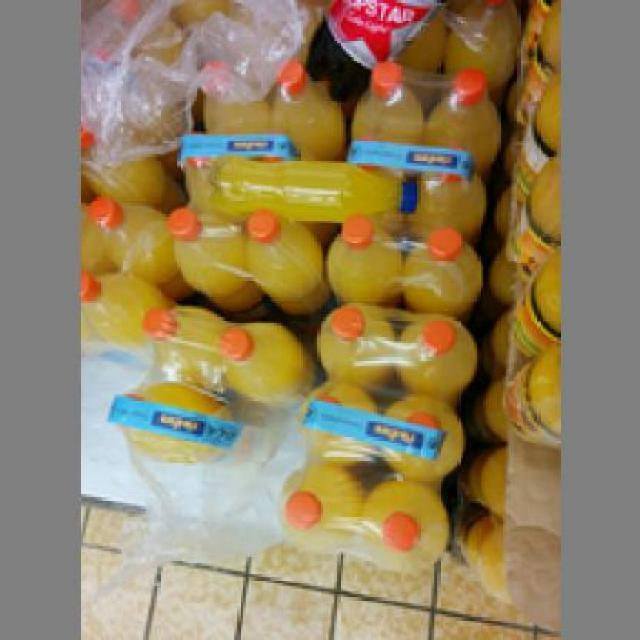Juice: (186, 142, 412, 218), (360, 477, 466, 566), (386, 211, 483, 300), (320, 199, 409, 295), (311, 294, 404, 380), (368, 388, 454, 474), (394, 300, 477, 386), (212, 312, 294, 392), (274, 456, 360, 530), (279, 378, 372, 446)
